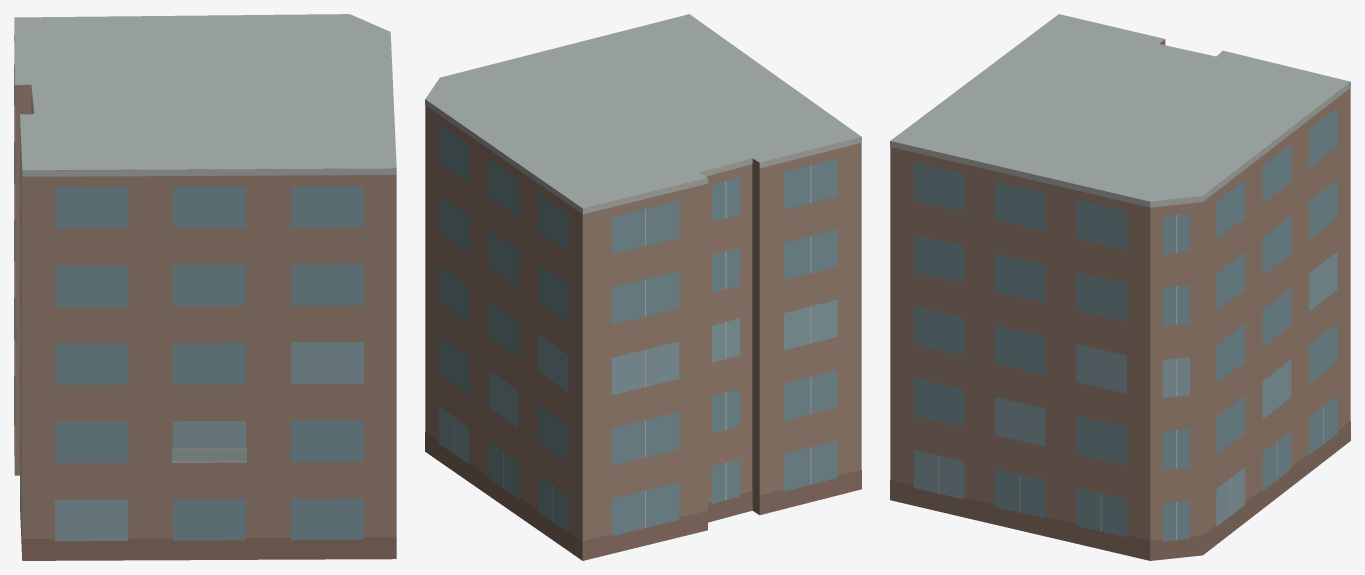
File: survey-upis-32962861.glb
3 renders of one model, left to right at view 1: azimuth 30°, elevation 25°; view 2: azimuth 150°, elevation 25°; view 3: azimuth 270°, elevation 25°, orthographic. The views are drawn at different scales.
Visible parts, largest first — view 1: survey-upis-32962861.tmp; view 2: survey-upis-32962861.tmp; view 3: survey-upis-32962861.tmp.
Boxes of the visible parts, x1,y1,x2,y2 form: survey-upis-32962861.tmp: (14,14,396,560); survey-upis-32962861.tmp: (425,14,861,560); survey-upis-32962861.tmp: (890,14,1350,560).
Size of the model in its own units: 16.42 by 14.65 by 17.03.
